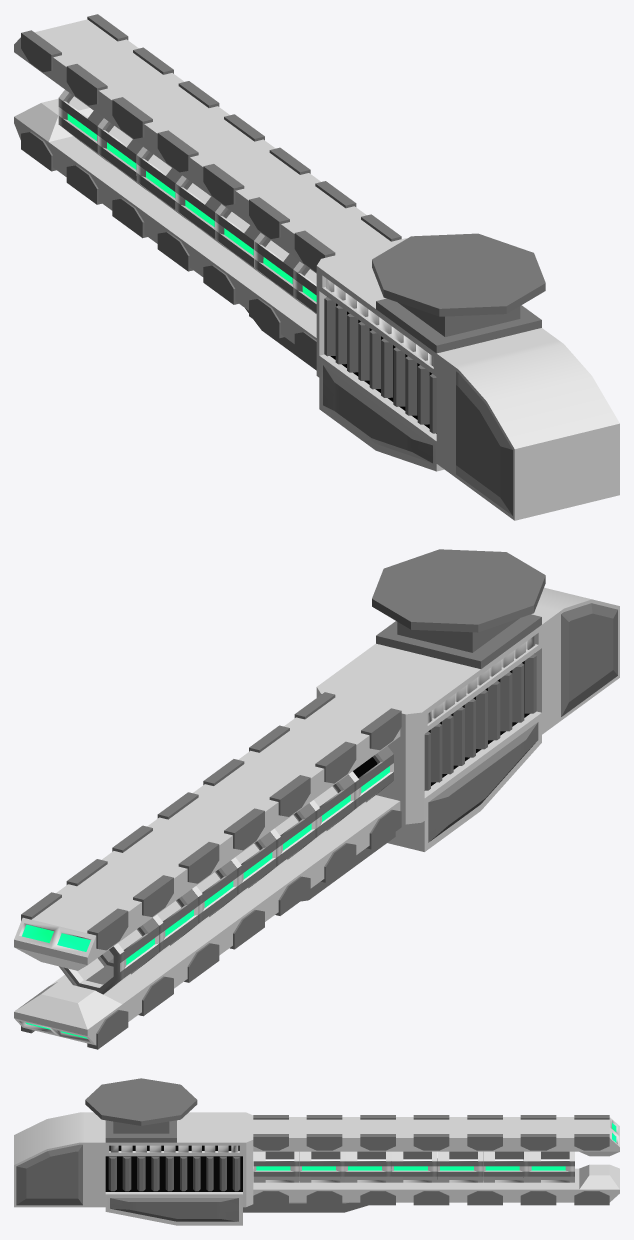
Rendered from 2_Railgun.fbx.
3 renders of one model, top to bottom at view 1: azimuth 30°, elevation 25°; view 2: azimuth 150°, elevation 25°; view 3: azimuth 270°, elevation 25°, orthographic. The views are drawn at different scales.
Parts seen in each view (by area): view 1: MainBody, MainBody.001, Guards, Mount, Barrel; view 2: MainBody.001, MainBody, Guards, Mount, Barrel; view 3: MainBody, MainBody.001, Barrel, Guards, Mount.
Boxes of the visible parts, bbox=[...] form: MainBody: bbox=[316, 238, 619, 520]; MainBody.001: bbox=[14, 19, 390, 370]; Guards: bbox=[21, 14, 401, 365]; Mount: bbox=[372, 233, 545, 336]; Barrel: bbox=[58, 90, 316, 313]; MainBody.001: bbox=[14, 697, 400, 1045]; MainBody: bbox=[316, 587, 619, 851]; Guards: bbox=[21, 692, 401, 1049]; Mount: bbox=[372, 549, 545, 652]; Barrel: bbox=[59, 746, 393, 994]; MainBody: bbox=[14, 1112, 253, 1225]; MainBody.001: bbox=[243, 1117, 619, 1212]; Barrel: bbox=[253, 1151, 574, 1182]; Guards: bbox=[253, 1115, 609, 1205]; Mount: bbox=[85, 1078, 197, 1133].
Bounding box in the file's own units: 200 × 240 × 1190.
